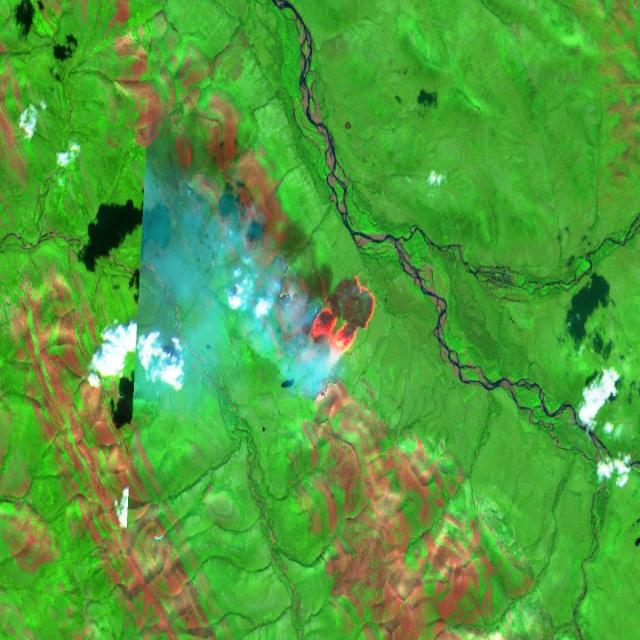fire: (307, 270, 379, 372)
